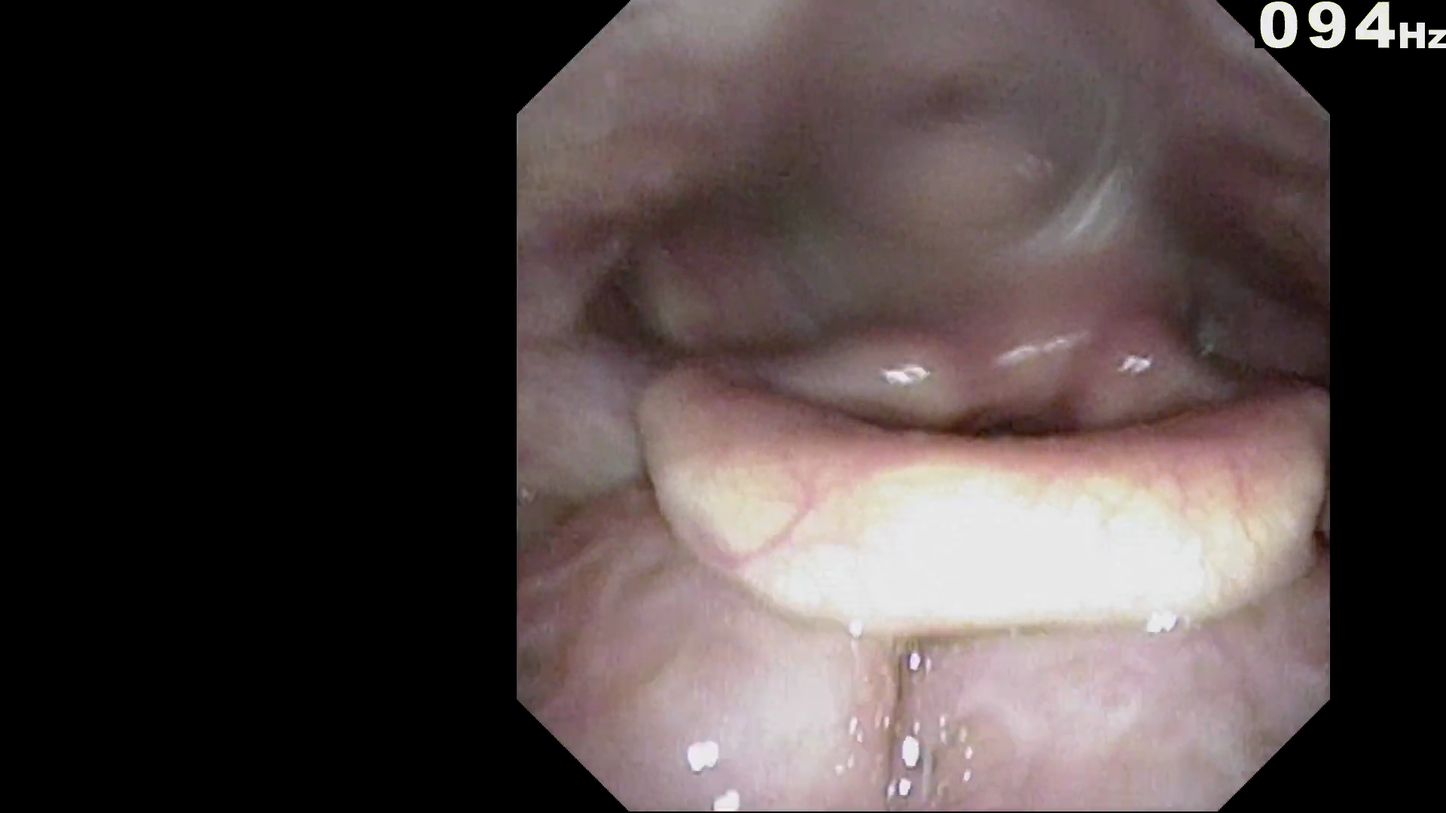epiglottis: (697, 423, 1306, 648)
